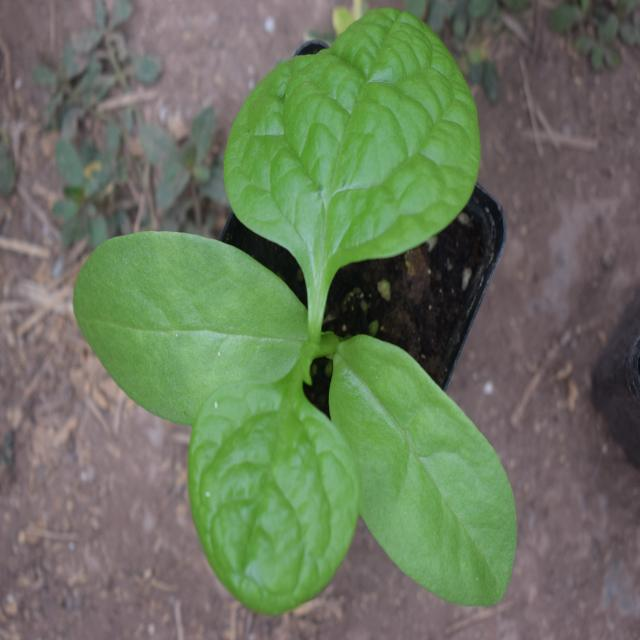Ceylon spinach: (108, 44, 524, 631)
